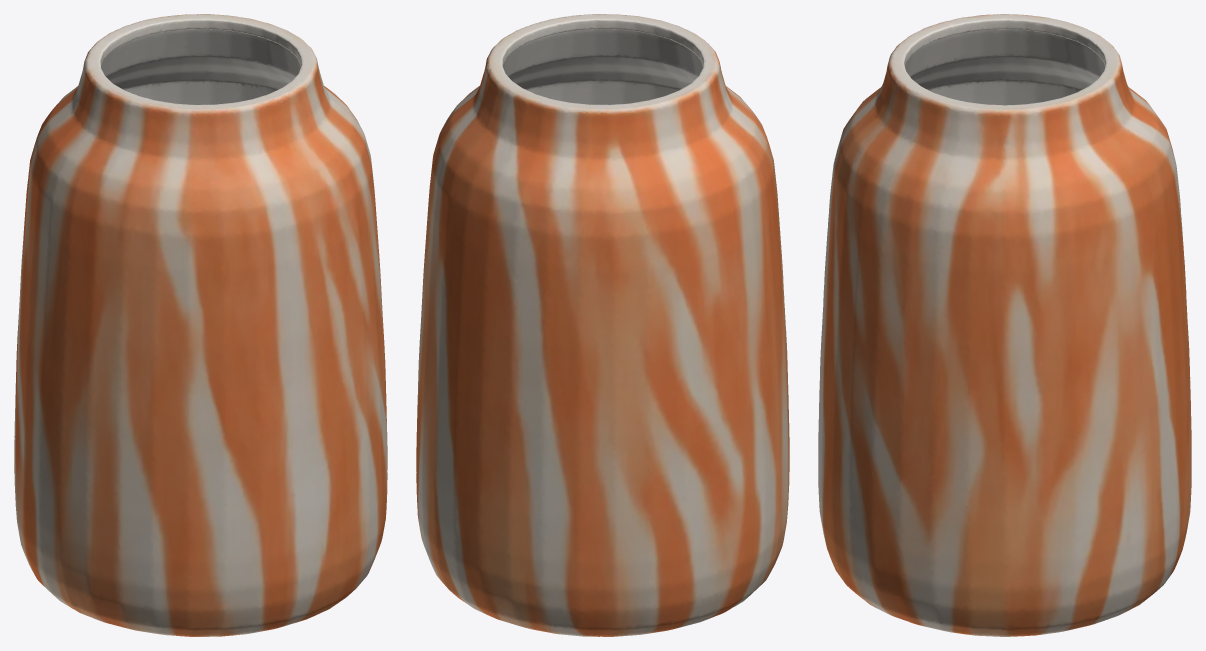
Rendered from teste.glb.
3 views of the same model, side by side, from view 1: azimuth 30°, elevation 25°; view 2: azimuth 150°, elevation 25°; view 3: azimuth 270°, elevation 25° (orthographic).
Visible parts, largest first — view 1: world; view 2: world; view 3: world.
Boxes of the visible parts, left/top/right/bottom form: world: left=14, top=14, right=387, bottom=636; world: left=416, top=14, right=789, bottom=636; world: left=818, top=14, right=1191, bottom=636.
Size of the model in its own units: 0.6395 by 1 by 0.6394.
1 material, 1 textured.
